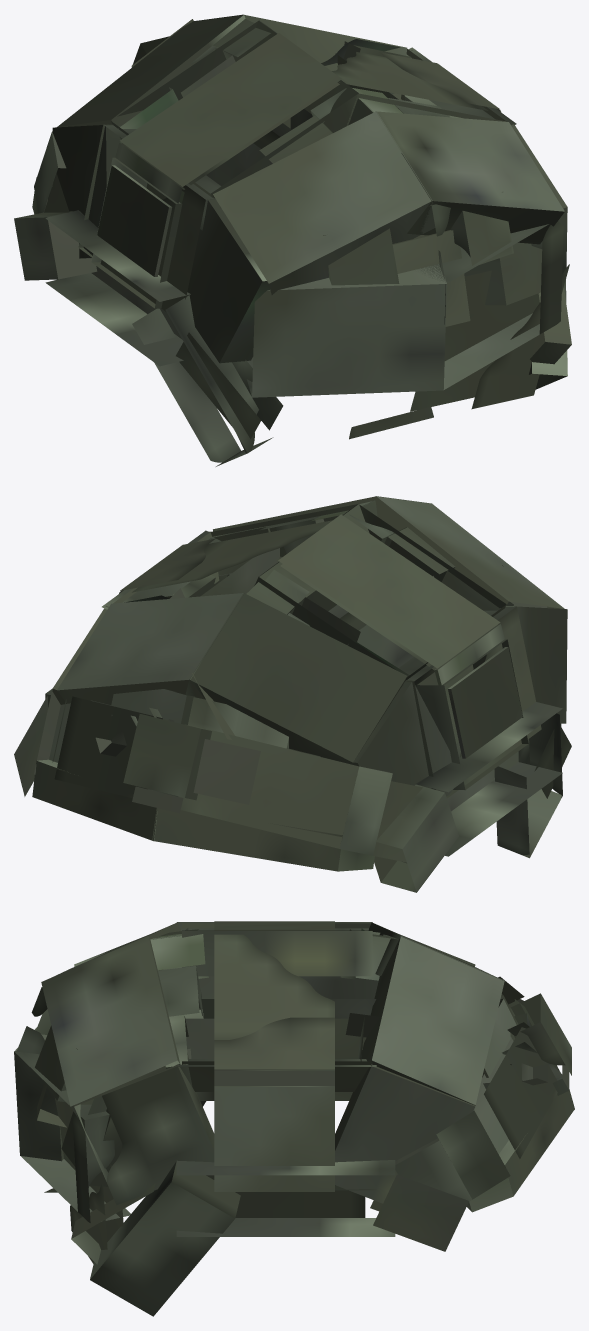
3 views of the same model, one above another, from view 1: azimuth 30°, elevation 25°; view 2: azimuth 150°, elevation 25°; view 3: azimuth 270°, elevation 25° (orthographic). The views are drawn at different scales.
Visible parts, largest first — view 1: base_h; view 2: base_h; view 3: base_h.
Part boxes in pixels (x1=…): base_h: x1=14, y1=14, x2=571, y2=466; base_h: x1=14, y1=496, x2=571, y2=892; base_h: x1=14, y1=921, x2=574, y2=1316.
Bounding box in the file's own units: 0.7563 × 0.5722 × 0.9294.
